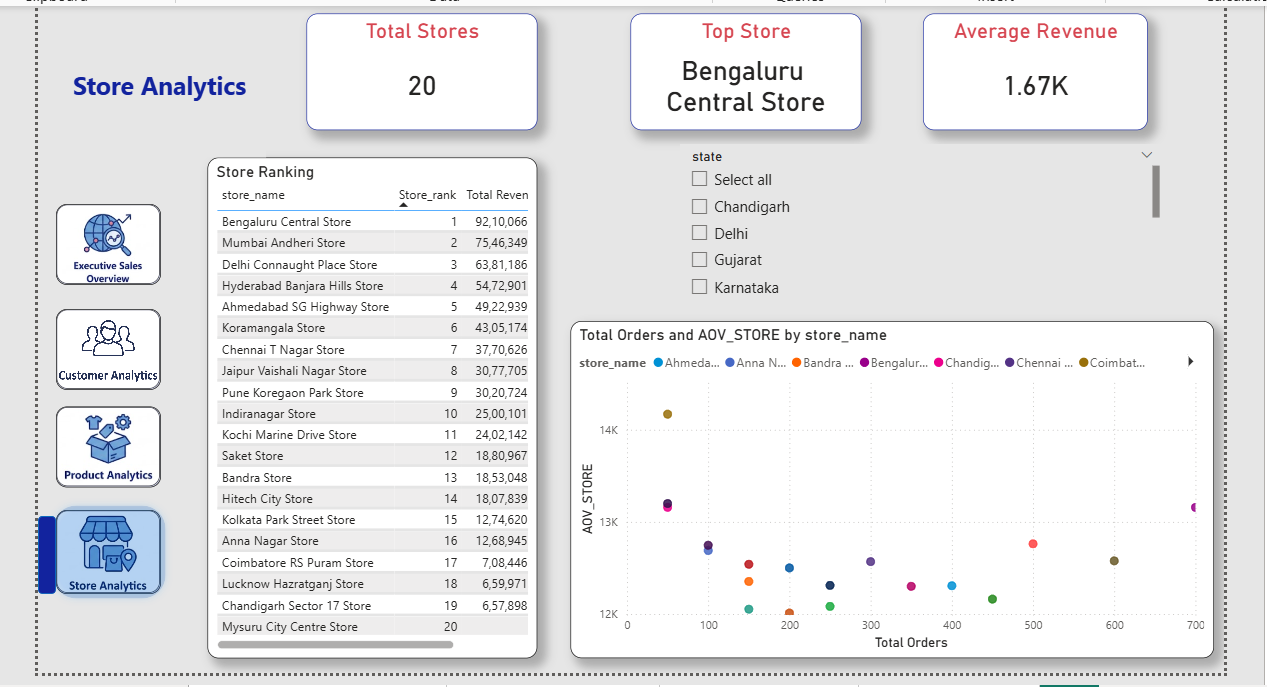

The page's visual inventory and layout, read from the dashboard file:
{"tool":"powerbi","page":{"name":"Store Analytics","canvas":[1280,720],"ordinal":3},"visuals":[{"type":"card","title":"Total Stores","fields":{"Values":["CountNonNull(sql_interview_db stores.store_id)"]},"box":[289.8,8.1,249.4,126.3],"z":0},{"type":"card","title":"Top Store","fields":{"Values":["Min(sql_interview_db stores.store_name)"]},"box":[639.6,8.1,249.4,126.3],"z":1000},{"type":"card","title":"Average Revenue ","fields":{"Values":["sql_interview_db stores.AvgRev_per_store"]},"box":[955.3,8.1,242.9,126.3],"z":2000},{"type":"tableEx","title":"Store Ranking","fields":{"Values":["sql_interview_db stores.store_name","sql_interview_db stores.Store_rank","sql_interview_db products.Total Revenue","sql_interview_db products.Total Orders"]},"box":[183,163.5,356.2,540.8],"z":3000},{"type":"scatterChart","fields":{"X":["sql_interview_db products.Total Orders"],"Y":["sql_interview_db stores.AOV_STORE"],"Series":["sql_interview_db stores.store_name"]},"box":[574.8,340,694.6,364.3],"z":4000},{"type":"slicer","fields":{"Values":["sql_interview_db stores.state"]},"box":[693,149,523,168.4],"z":5000},{"type":"textbox","box":[16.2,8.1,229.9,155.4],"z":6000},{"type":"image","box":[19.4,213.7,113.3,87.4],"z":7000},{"type":"image","box":[19.4,327.1,113.3,87.4],"z":8000},{"type":"image","box":[19.4,432.3,113.3,87.4],"z":9000},{"type":"image","box":[19.4,544.1,113.3,90.7],"z":10000},{"type":"shape","box":[8.1,531.1,137.6,116.6],"z":11000},{"type":"shape","box":[0,550.5,19.4,84.2],"z":12000}]}

Visuals, with their boxes on the page's 1280x720 design canvas (x1, y1, x2, y2). These are canvas units, not pixel positions in the 1267x687 screenshot, which may show the page scaled, cropped or inside an application window:
"Total Stores" card: x1=290, y1=8, x2=539, y2=134
"Top Store" card: x1=640, y1=8, x2=889, y2=134
"Average Revenue " card: x1=955, y1=8, x2=1198, y2=134
"Store Ranking" tableEx: x1=183, y1=164, x2=539, y2=704
scatterChart - sql_interview_db products.Total Orders x sql_interview_db stores.AOV_STORE: x1=575, y1=340, x2=1269, y2=704
slicer - sql_interview_db stores.state: x1=693, y1=149, x2=1216, y2=317
textbox: x1=16, y1=8, x2=246, y2=164
image: x1=19, y1=214, x2=133, y2=301
image: x1=19, y1=327, x2=133, y2=414
image: x1=19, y1=432, x2=133, y2=520
image: x1=19, y1=544, x2=133, y2=635
shape: x1=8, y1=531, x2=146, y2=648
shape: x1=0, y1=550, x2=19, y2=635
